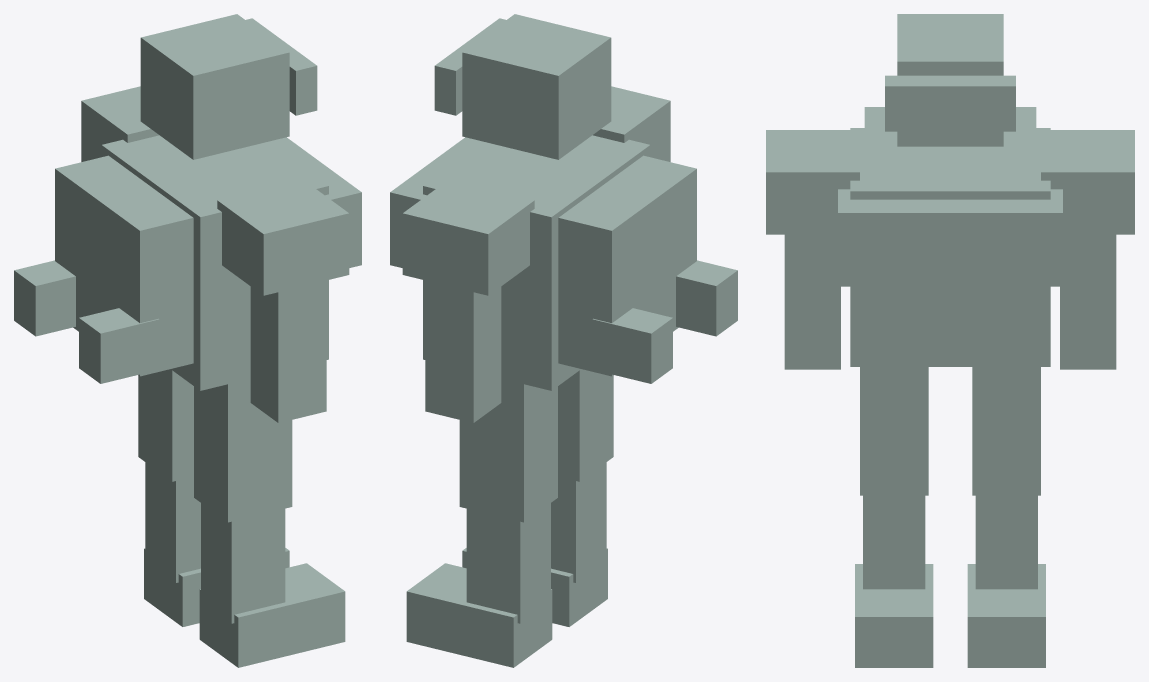
File: operator-field-suit-lod2.glb
The picture shows the model from 3 angles, left to right: view 1: azimuth 30°, elevation 25°; view 2: azimuth 150°, elevation 25°; view 3: azimuth 270°, elevation 25°; orthographic projection.
Visible parts, largest first — view 1: operator-field-suit; view 2: operator-field-suit; view 3: operator-field-suit.
Part boxes in pixels (x1=…): operator-field-suit: x1=14, y1=14, x2=361, y2=667; operator-field-suit: x1=390, y1=14, x2=737, y2=667; operator-field-suit: x1=766, y1=14, x2=1134, y2=667.
Size of the model in its own units: 0.93 by 2.08 by 1.18.
